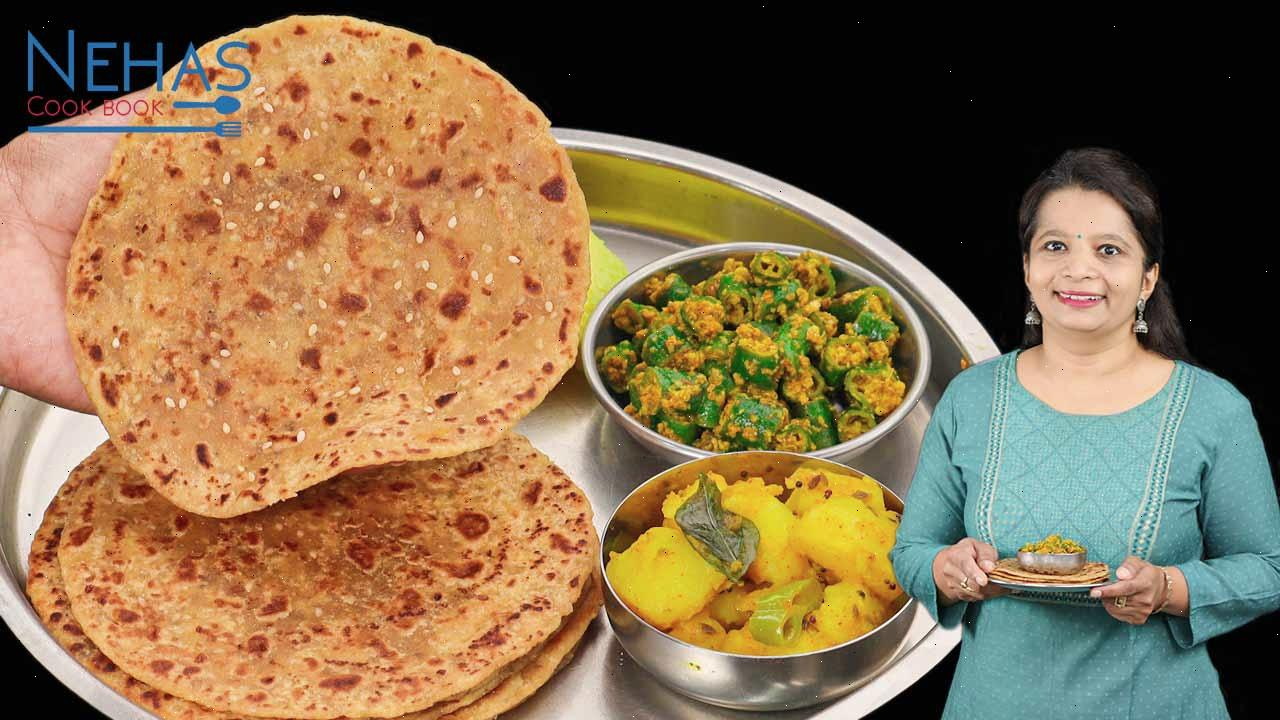thepla: (74, 134, 596, 666)
